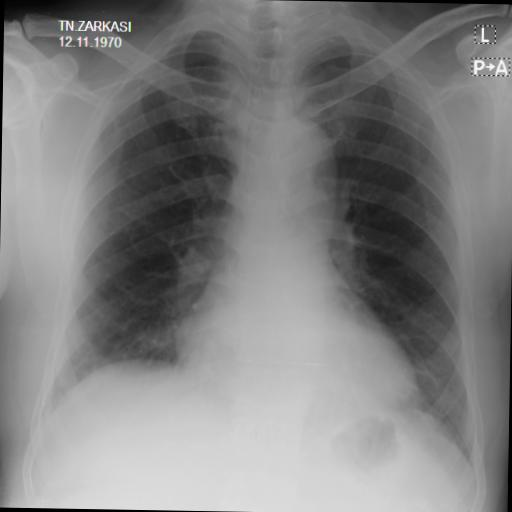kardiomegali: (42, 0, 496, 469)
